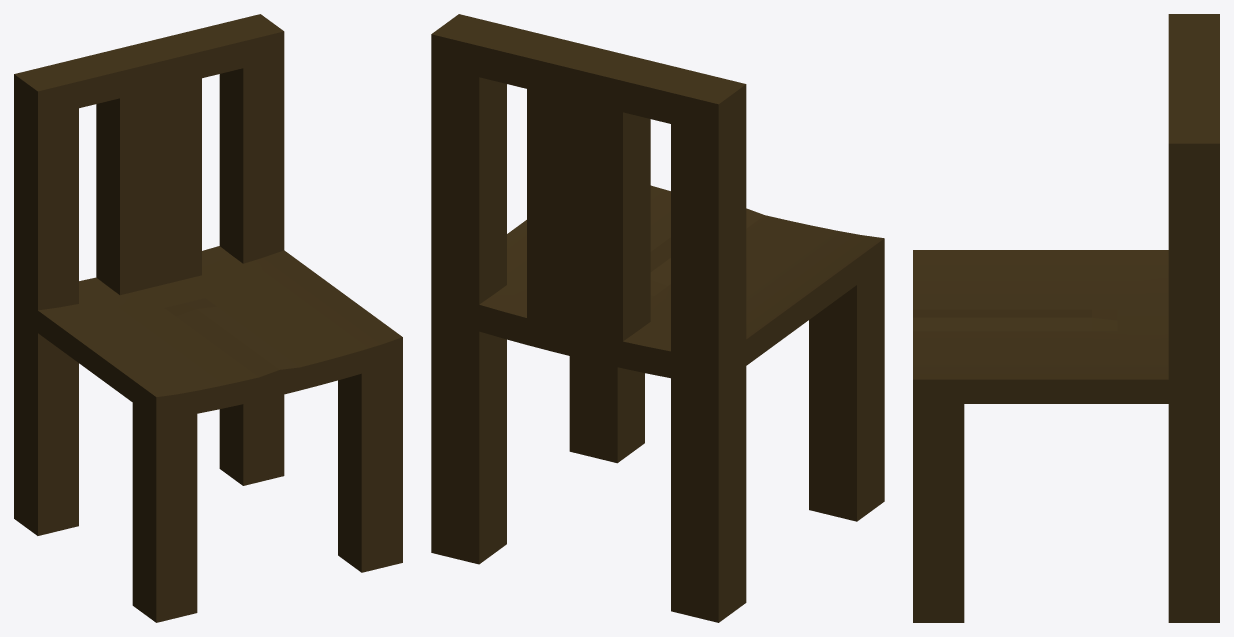
File: chear2.fbx
3 views of the same model, side by side, from view 1: azimuth 30°, elevation 25°; view 2: azimuth 150°, elevation 25°; view 3: azimuth 270°, elevation 25° (orthographic). The views are drawn at different scales.
Visible parts, largest first — view 1: Cube; view 2: Cube; view 3: Cube.
Part boxes in pixels (bbox=[...]): Cube: bbox=[14, 14, 402, 622]; Cube: bbox=[431, 14, 884, 622]; Cube: bbox=[913, 14, 1219, 622].
Bounding box in the file's own units: 200 × 345 × 200.
